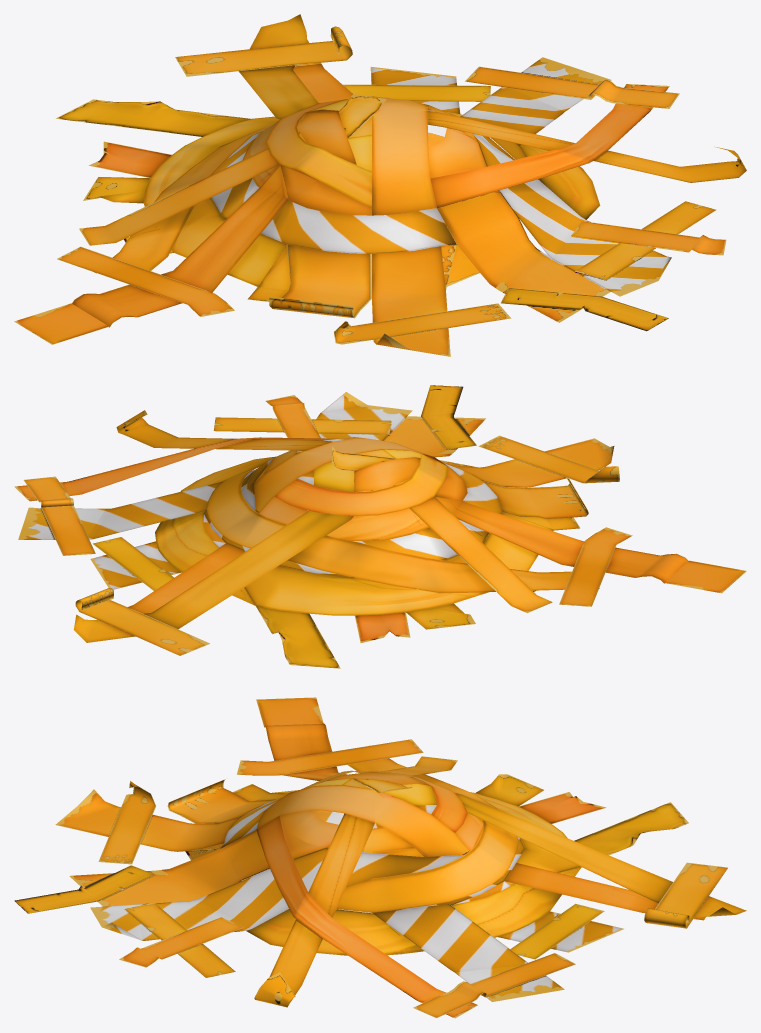
The model's file is obj_destructable_tape_cocoon02.fbx.
3 renders of one model, top to bottom at view 1: azimuth 30°, elevation 25°; view 2: azimuth 150°, elevation 25°; view 3: azimuth 270°, elevation 25°, orthographic. The views are drawn at different scales.
Parts seen in each view (by area): view 1: obj_destructable_tape_cocoon03; view 2: obj_destructable_tape_cocoon03; view 3: obj_destructable_tape_cocoon03.
Boxes of the visible parts, x1,y1,x2,y2 form: obj_destructable_tape_cocoon03: [14, 14, 746, 356]; obj_destructable_tape_cocoon03: [14, 385, 746, 668]; obj_destructable_tape_cocoon03: [14, 697, 746, 1018].
Size of the model in its own units: 17.99 by 2.29 by 17.35.
